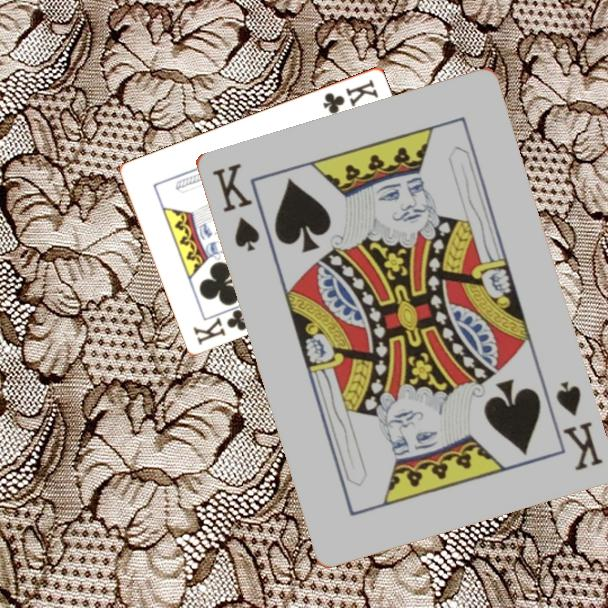c13: (189, 305, 252, 348), (319, 75, 382, 117)
s13: (208, 159, 262, 255), (551, 377, 605, 473)
